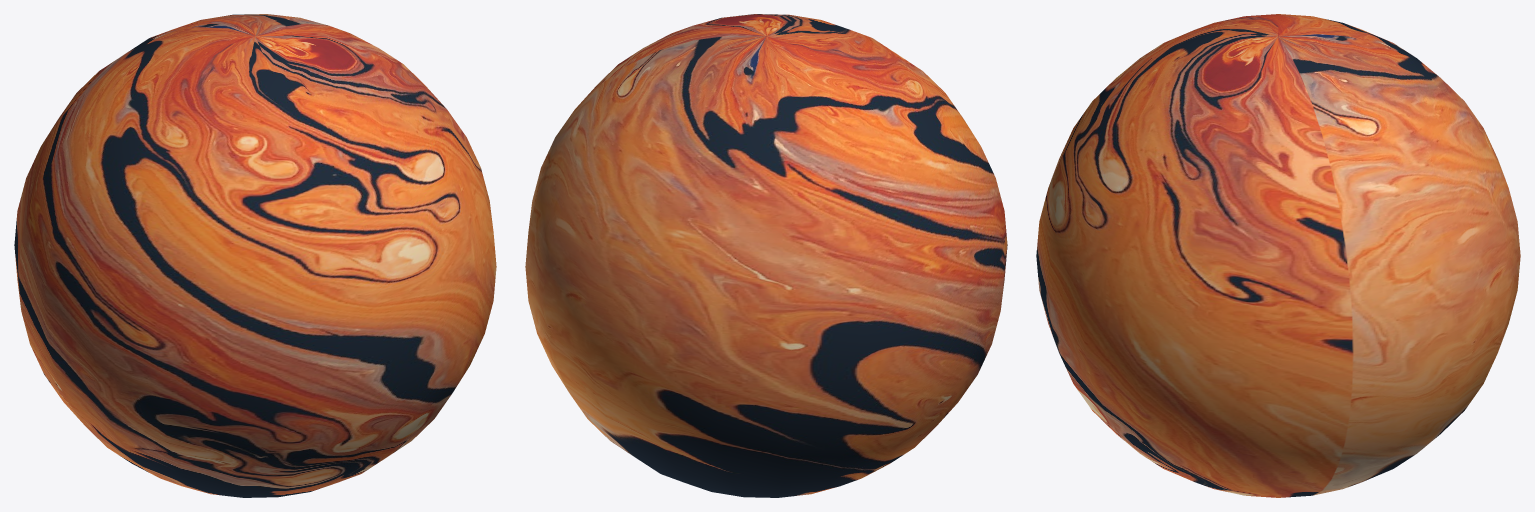
Rendered from planetAnimatedRE.glb.
3 renders of one model, left to right at view 1: azimuth 30°, elevation 25°; view 2: azimuth 150°, elevation 25°; view 3: azimuth 270°, elevation 25°, orthographic.
Parts seen in each view (by area): view 1: pSphere1; view 2: pSphere1; view 3: pSphere1.
Part boxes in pixels (left/top/right/bottom): pSphere1: left=14, top=14, right=496, bottom=497; pSphere1: left=525, top=14, right=1007, bottom=497; pSphere1: left=1036, top=14, right=1520, bottom=497.
Size of the model in its own units: 0.0307 by 0.0307 by 0.0307.
1 material, 1 textured.
